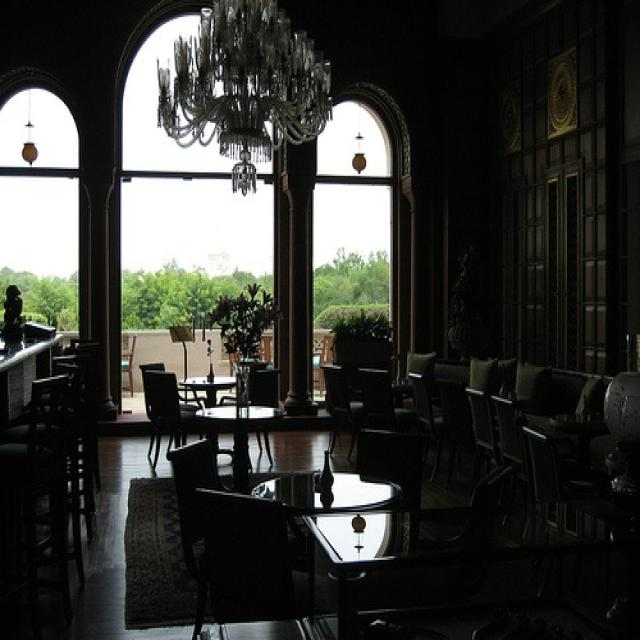Table: (249, 460, 404, 531), (191, 391, 286, 458)
chair: (455, 355, 640, 602), (8, 345, 109, 636), (315, 360, 438, 455), (137, 350, 184, 470)
